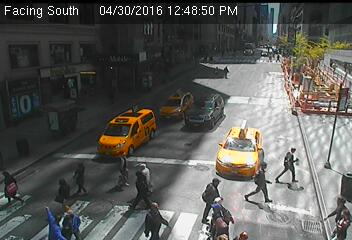neg: (277, 69, 303, 104), (167, 159, 192, 193), (226, 9, 250, 41), (280, 200, 304, 231), (308, 126, 331, 156), (149, 128, 171, 157), (89, 198, 111, 227), (46, 12, 67, 41), (36, 97, 57, 124), (142, 71, 162, 99), (6, 127, 26, 154), (103, 47, 123, 74), (294, 9, 314, 36), (248, 89, 267, 115), (79, 74, 98, 99), (320, 85, 339, 110), (121, 10, 140, 35), (19, 53, 37, 76), (178, 133, 195, 156), (191, 103, 208, 125), (123, 112, 140, 134), (263, 12, 279, 34), (235, 54, 251, 75), (196, 58, 211, 78), (322, 14, 337, 33), (169, 40, 183, 59), (201, 29, 214, 46), (321, 50, 334, 67)
pos: (61, 151, 97, 199), (242, 156, 277, 203), (105, 146, 139, 191), (322, 192, 351, 239), (195, 176, 227, 218), (272, 145, 302, 186), (123, 166, 153, 206), (139, 200, 167, 238), (132, 161, 158, 197), (39, 205, 65, 239), (58, 203, 83, 236), (207, 193, 227, 220), (218, 210, 235, 232), (239, 225, 250, 239), (275, 51, 284, 63)
